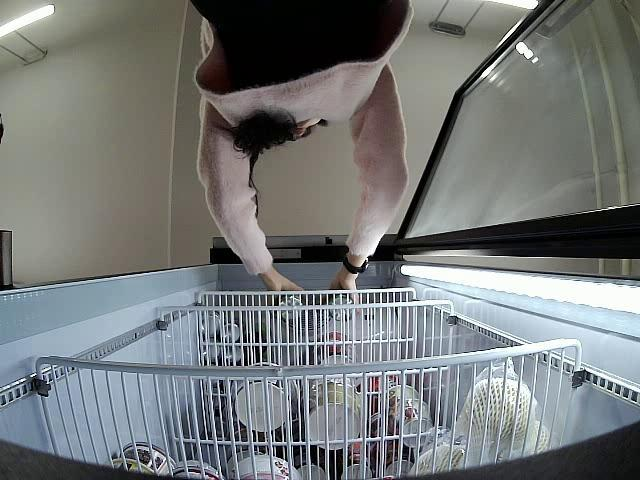18_trevi: (276, 294, 306, 325), (325, 294, 355, 323)
